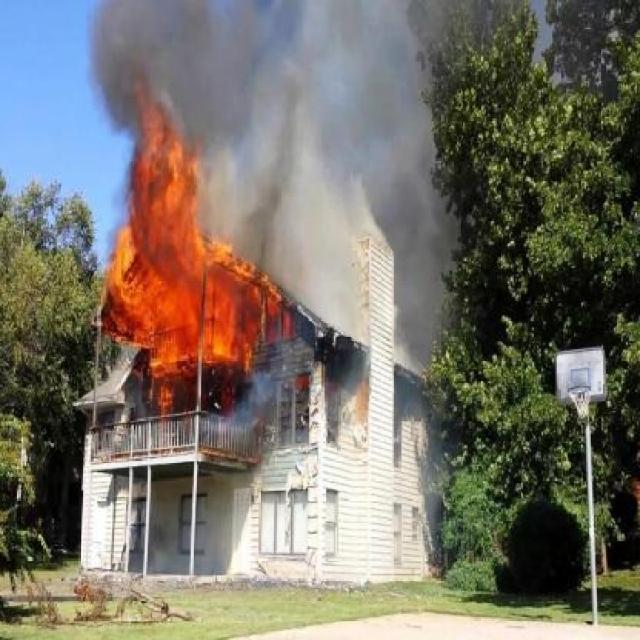Fire: (71, 132, 292, 412)
Smoke: (216, 3, 444, 255)
